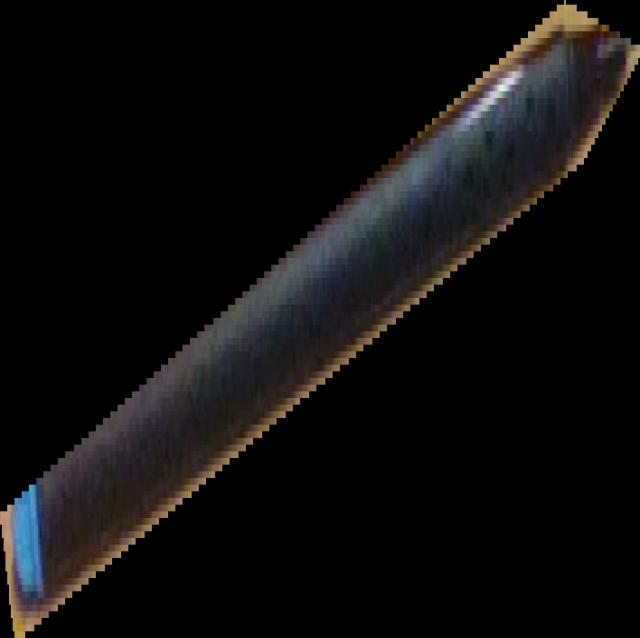blue: (1, 1, 640, 638)
